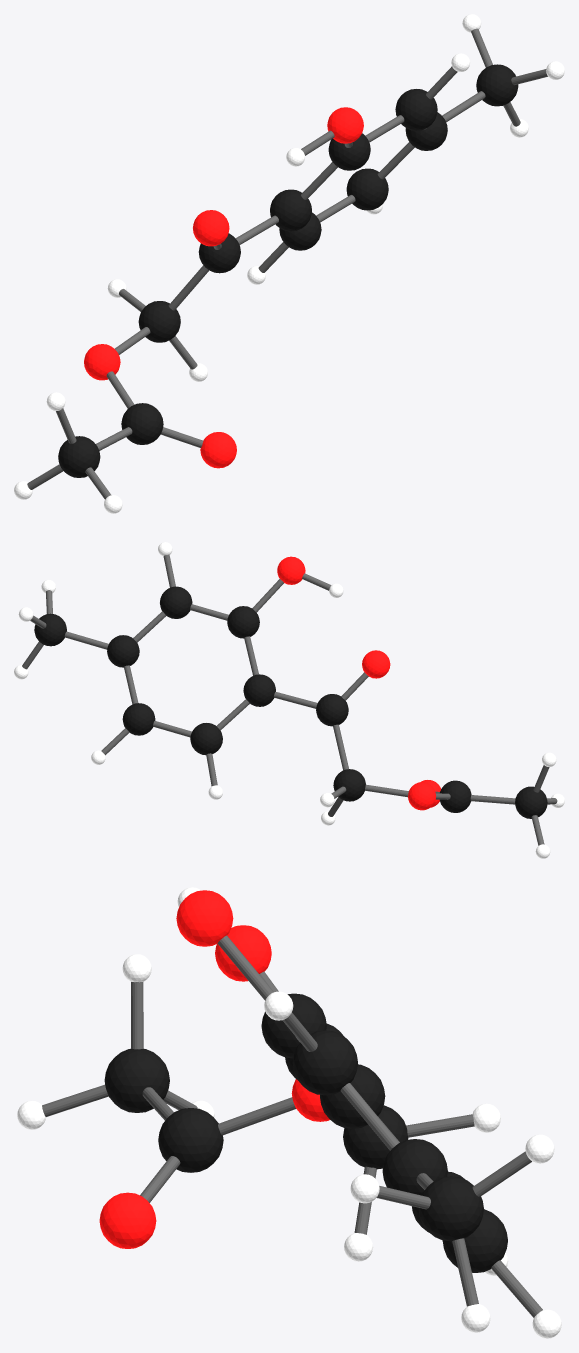
File: molecule.glb
The picture shows the model from 3 angles, top to bottom: view 1: azimuth 30°, elevation 25°; view 2: azimuth 150°, elevation 25°; view 3: azimuth 270°, elevation 25°; orthographic projection. The views are drawn at different scales.
Visible parts, largest first — view 1: geometry_1, geometry_9, geometry_12, geometry_7, geometry_11, geometry_4, geometry_0, geometry_5, geometry_13, geometry_6, geometry_2, geometry_14 (+3 smaller); view 2: geometry_13, geometry_5, geometry_9, geometry_10, geometry_7, geometry_12, geometry_8, geometry_0, geometry_1, geometry_4, geometry_11, geometry_6 (+2 smaller); view 3: geometry_1, geometry_11, geometry_12, geometry_0, geometry_10, geometry_2, geometry_14, geometry_7, geometry_9, geometry_4, geometry_13, geometry_6 (+22 smaller).
Boxes of the visible parts, box(x1,y1,x2,y2) form: geometry_1: box(121, 403, 163, 444); geometry_9: box(346, 168, 388, 210); geometry_12: box(395, 89, 437, 130); geometry_7: box(270, 189, 311, 231); geometry_11: box(476, 64, 518, 106); geometry_4: box(138, 301, 180, 342); geometry_0: box(58, 436, 100, 477); geometry_5: box(198, 233, 240, 273); geometry_13: box(328, 133, 370, 170); geometry_6: box(193, 210, 229, 246); geometry_2: box(200, 432, 236, 468); geometry_14: box(327, 107, 363, 143); geometry_13: box(227, 606, 259, 638); geometry_5: box(316, 694, 348, 726); geometry_9: box(122, 703, 155, 735); geometry_10: box(107, 635, 139, 667); geometry_7: box(243, 674, 275, 706); geometry_12: box(160, 586, 192, 618); geometry_8: box(190, 723, 222, 755); geometry_0: box(515, 786, 547, 818); geometry_1: box(439, 780, 471, 812); geometry_4: box(333, 769, 365, 801); geometry_11: box(34, 613, 66, 646); geometry_6: box(362, 650, 390, 678); geometry_1: box(158, 1108, 223, 1172); geometry_11: box(418, 1176, 483, 1241); geometry_12: box(292, 1030, 357, 1095); geometry_0: box(104, 1048, 169, 1112); geometry_10: box(382, 1139, 447, 1195); geometry_2: box(99, 1192, 156, 1248); geometry_14: box(176, 890, 233, 946); geometry_7: box(320, 1064, 385, 1128); geometry_9: box(442, 1209, 507, 1272); geometry_4: box(343, 1105, 408, 1169); geometry_13: box(261, 993, 326, 1058); geometry_6: box(215, 925, 271, 981).
Bounding box in the file's own units: 0.257 × 0.1279 × 0.1301.
